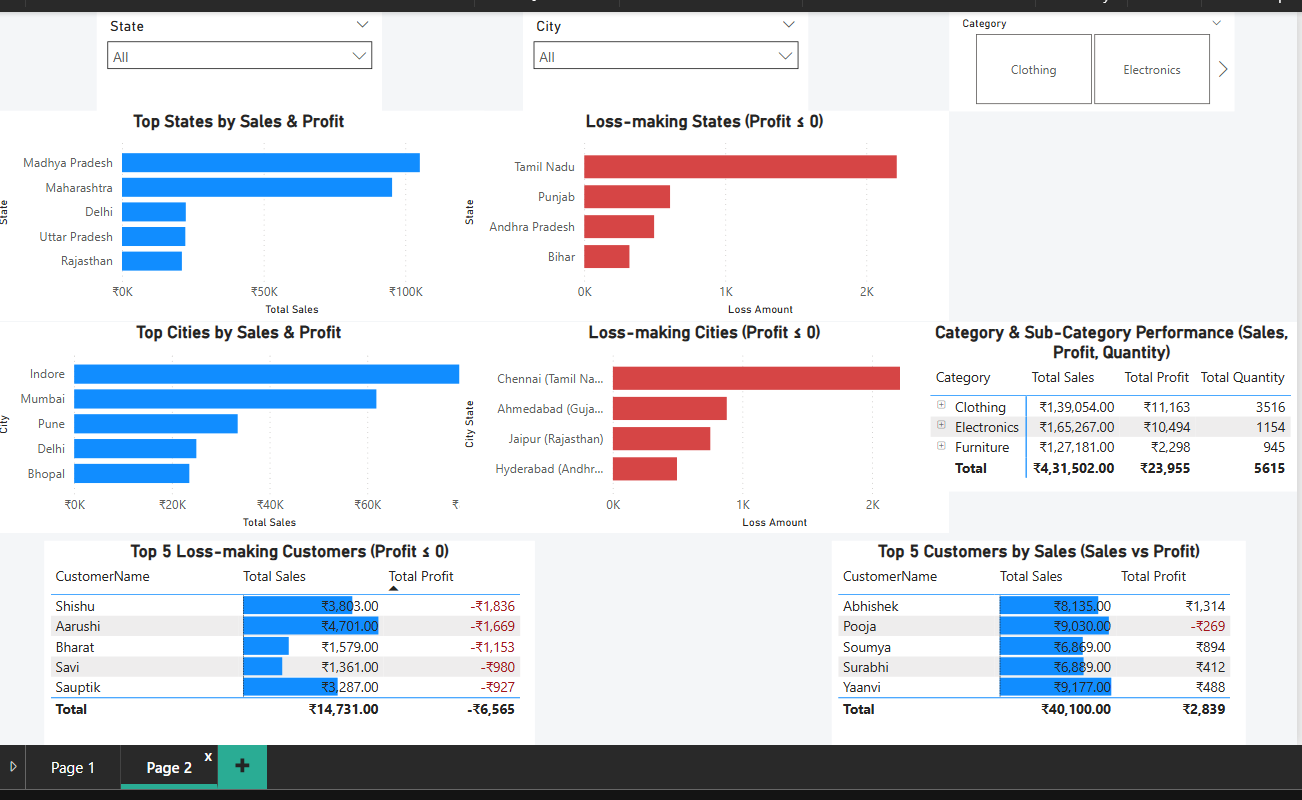

The page's visual inventory and layout, read from the dashboard file:
{"tool":"powerbi","page":{"name":"Page 2","canvas":[1280,720],"ordinal":1},"visuals":[{"type":"slicer","fields":{"Values":["cleaned_List of Orders.State"]},"box":[101.2,0,280,97.5],"z":0},{"type":"slicer","fields":{"Values":["cleaned_List of Orders.City"]},"box":[520,0,280,97.5],"z":1000},{"type":"slicer","fields":{"Values":["cleaned_Sales Target.Category"]},"box":[938.8,0,280,97.5],"z":2000},{"type":"clusteredBarChart","title":"Top States by Sales & Profit","fields":{"Category":["cleaned_List of Orders.State"],"Y":["cleaned_Order Details.Total Sales"]},"box":[0,97.5,482.5,206.2],"z":3000},{"type":"clusteredBarChart","title":"Top Cities by Sales & Profit","fields":{"Category":["cleaned_List of Orders.City"],"Y":["cleaned_Order Details.Total Sales"]},"box":[0,303.8,482.5,207.5],"z":4000},{"type":"clusteredBarChart","title":"Loss-making States (Profit ≤ 0)","fields":{"Y":["cleaned_Order Details.Loss Amount"],"Category":["cleaned_List of Orders.State"]},"box":[457.7,96.9,481,206.1],"z":5000},{"type":"clusteredBarChart","title":"Loss-making Cities (Profit ≤ 0)","fields":{"Category":["cleaned_List of Orders.City State"],"Y":["cleaned_Order Details.Loss Amount"]},"box":[457.7,304.3,481,207.4],"z":6000},{"type":"tableEx","title":"Top 5 Customers by Sales (with Profit)","fields":{"Values":["cleaned_List of Orders.CustomerName","cleaned_Order Details.Total Sales","cleaned_Order Details.Total Profit"]},"box":[823.8,518.8,406.2,201.2],"z":7000},{"type":"tableEx","title":"Top 5 Loss-making Customers (Profit ≤ 0)","fields":{"Values":["cleaned_List of Orders.CustomerName","cleaned_Order Details.Total Sales","cleaned_Order Details.Total Profit"]},"box":[50,518.8,481.2,201.2],"z":8000},{"type":"pivotTable","title":"Category & Sub-Category Performance (Sales, Profit, Quantity)","fields":{"Rows":["cleaned_Sales Target.Category","cleaned_Order Details.Sub-Category"],"Values":["cleaned_Order Details.Total Sales","cleaned_Order Details.Total Profit","cleaned_Order Details.Total Quantity"]},"box":[915,303.8,365,166.2],"z":9000}]}

Visuals, with their boxes on the page's 1280x720 design canvas (x1, y1, x2, y2). These are canvas units, not pixel positions in the 1302x800 screenshot, which may show the page scaled, cropped or inside an application window:
slicer - cleaned_List of Orders.State: crop(101, 0, 381, 98)
slicer - cleaned_List of Orders.City: crop(520, 0, 800, 98)
slicer - cleaned_Sales Target.Category: crop(939, 0, 1219, 98)
"Top States by Sales & Profit" clusteredBarChart: crop(0, 98, 482, 304)
"Top Cities by Sales & Profit" clusteredBarChart: crop(0, 304, 482, 511)
"Loss-making States (Profit ≤ 0)" clusteredBarChart: crop(458, 97, 939, 303)
"Loss-making Cities (Profit ≤ 0)" clusteredBarChart: crop(458, 304, 939, 512)
"Top 5 Customers by Sales (with Profit)" tableEx: crop(824, 519, 1230, 720)
"Top 5 Loss-making Customers (Profit ≤ 0)" tableEx: crop(50, 519, 531, 720)
"Category & Sub-Category Performance (Sales, Profit, Quantity)" pivotTable: crop(915, 304, 1280, 470)
